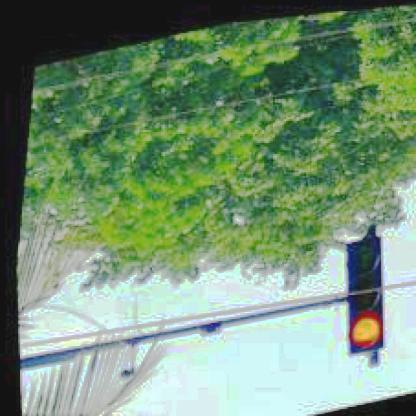Traffic Light -Red-: (332, 234, 390, 356)
